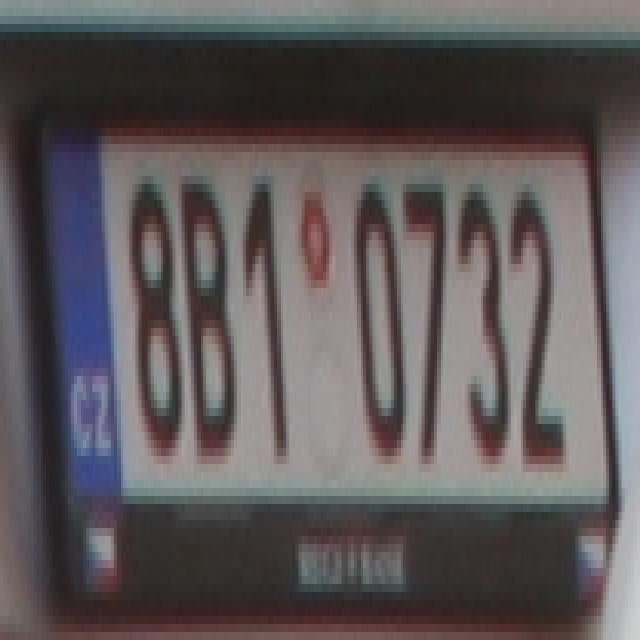0: (354, 184, 406, 464)
1: (240, 176, 295, 464)
2: (505, 184, 572, 464)
3: (452, 184, 511, 480)
7: (400, 184, 449, 480)
8: (126, 176, 182, 456)
B: (176, 160, 247, 472)
